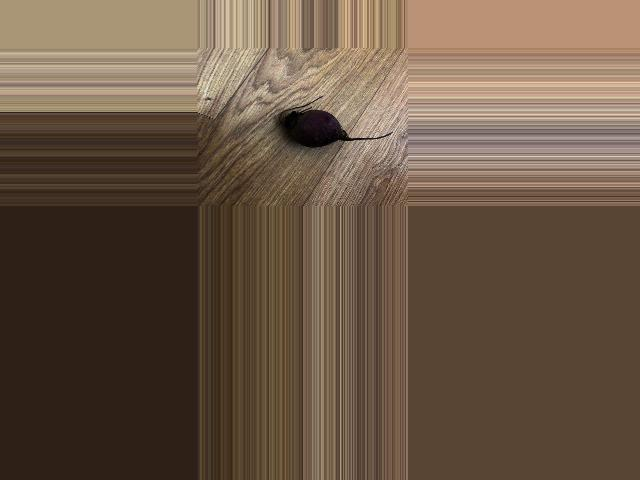beet: (279, 96, 393, 148)
